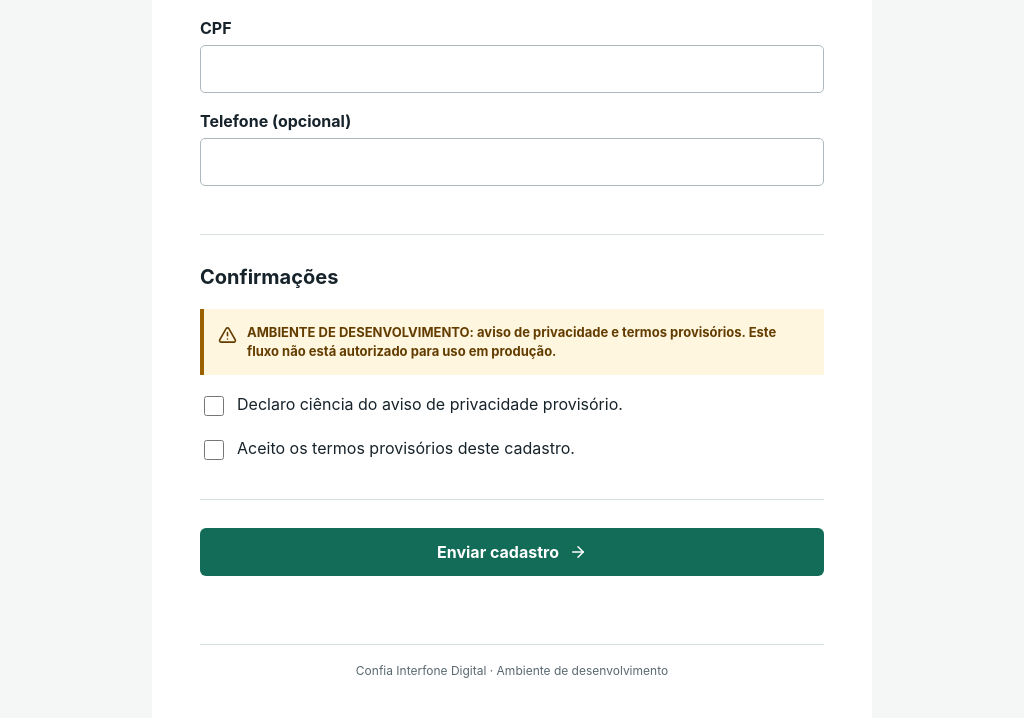
Test: RegistrationFlow › does not submit invalid or unaccepted data
(page scrolled)
What coordinates should you click on to do the following:
click the button "Enviar cadastro"
I would click on:
 (512, 552)
Its box is [200, 528, 824, 576].
(page scrolled)
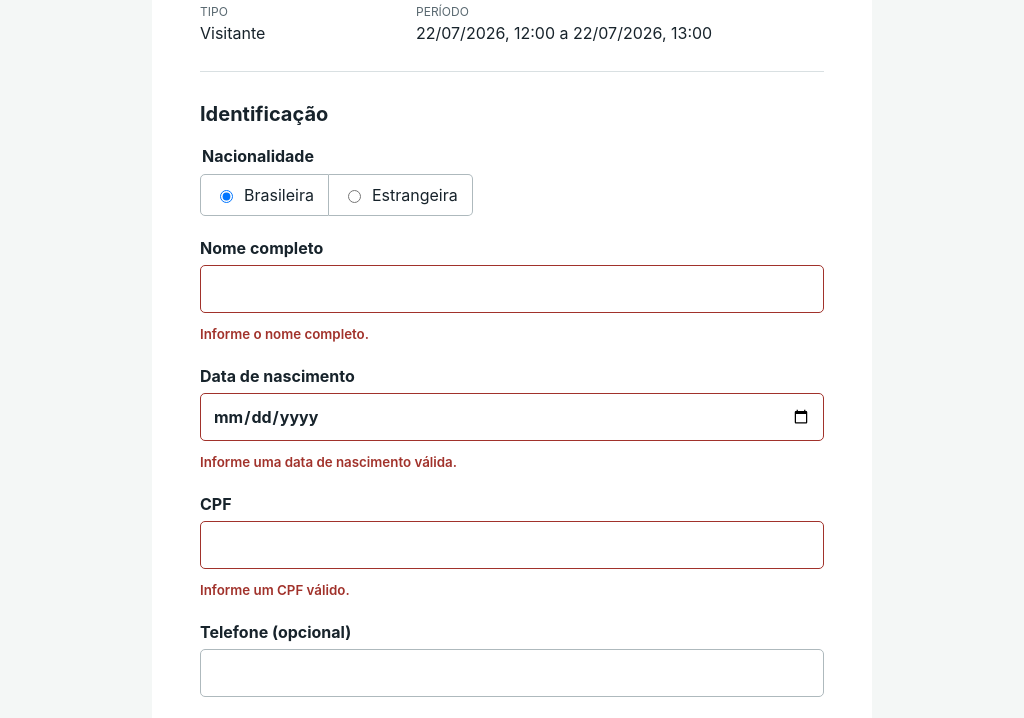
Now the text "Informe o nome completo." is shown, box [200, 326, 369, 342]
